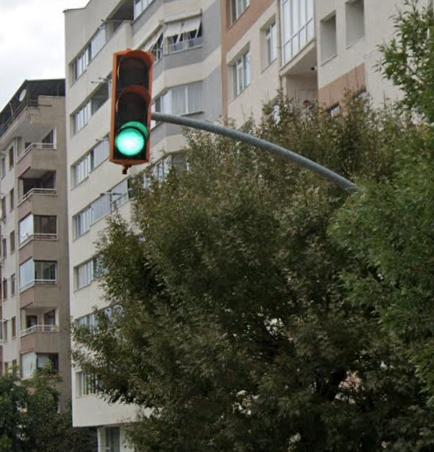greenlight: (111, 51, 151, 166)
